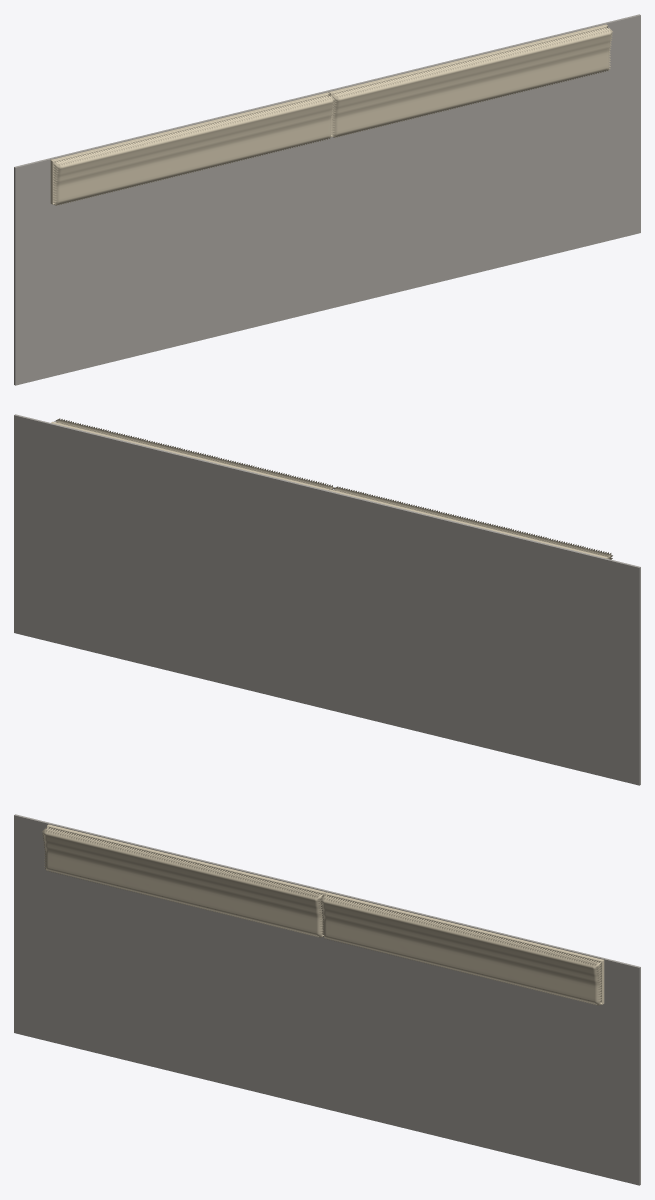
The model's file is terilgan.glb.
The picture shows the model from 3 angles, top to bottom: view 1: azimuth 30°, elevation 25°; view 2: azimuth 150°, elevation 25°; view 3: azimuth 330°, elevation 25°; orthographic projection.
Parts seen in each view (by area): view 1: Devor, t0, t1; view 2: Devor, t1, t0; view 3: Devor, t1, t0.
Part boxes in pixels (x1,y1,x2,y2): Devor: [14, 14, 640, 385]; t0: [50, 92, 334, 205]; t1: [328, 24, 612, 138]; Devor: [14, 414, 640, 785]; t1: [51, 418, 334, 490]; t0: [329, 486, 612, 559]; Devor: [14, 814, 640, 1185]; t1: [320, 892, 604, 1005]; t0: [41, 824, 326, 938].
Bounding box in the file's own units: 2.71 × 0.9 × 0.0671.
